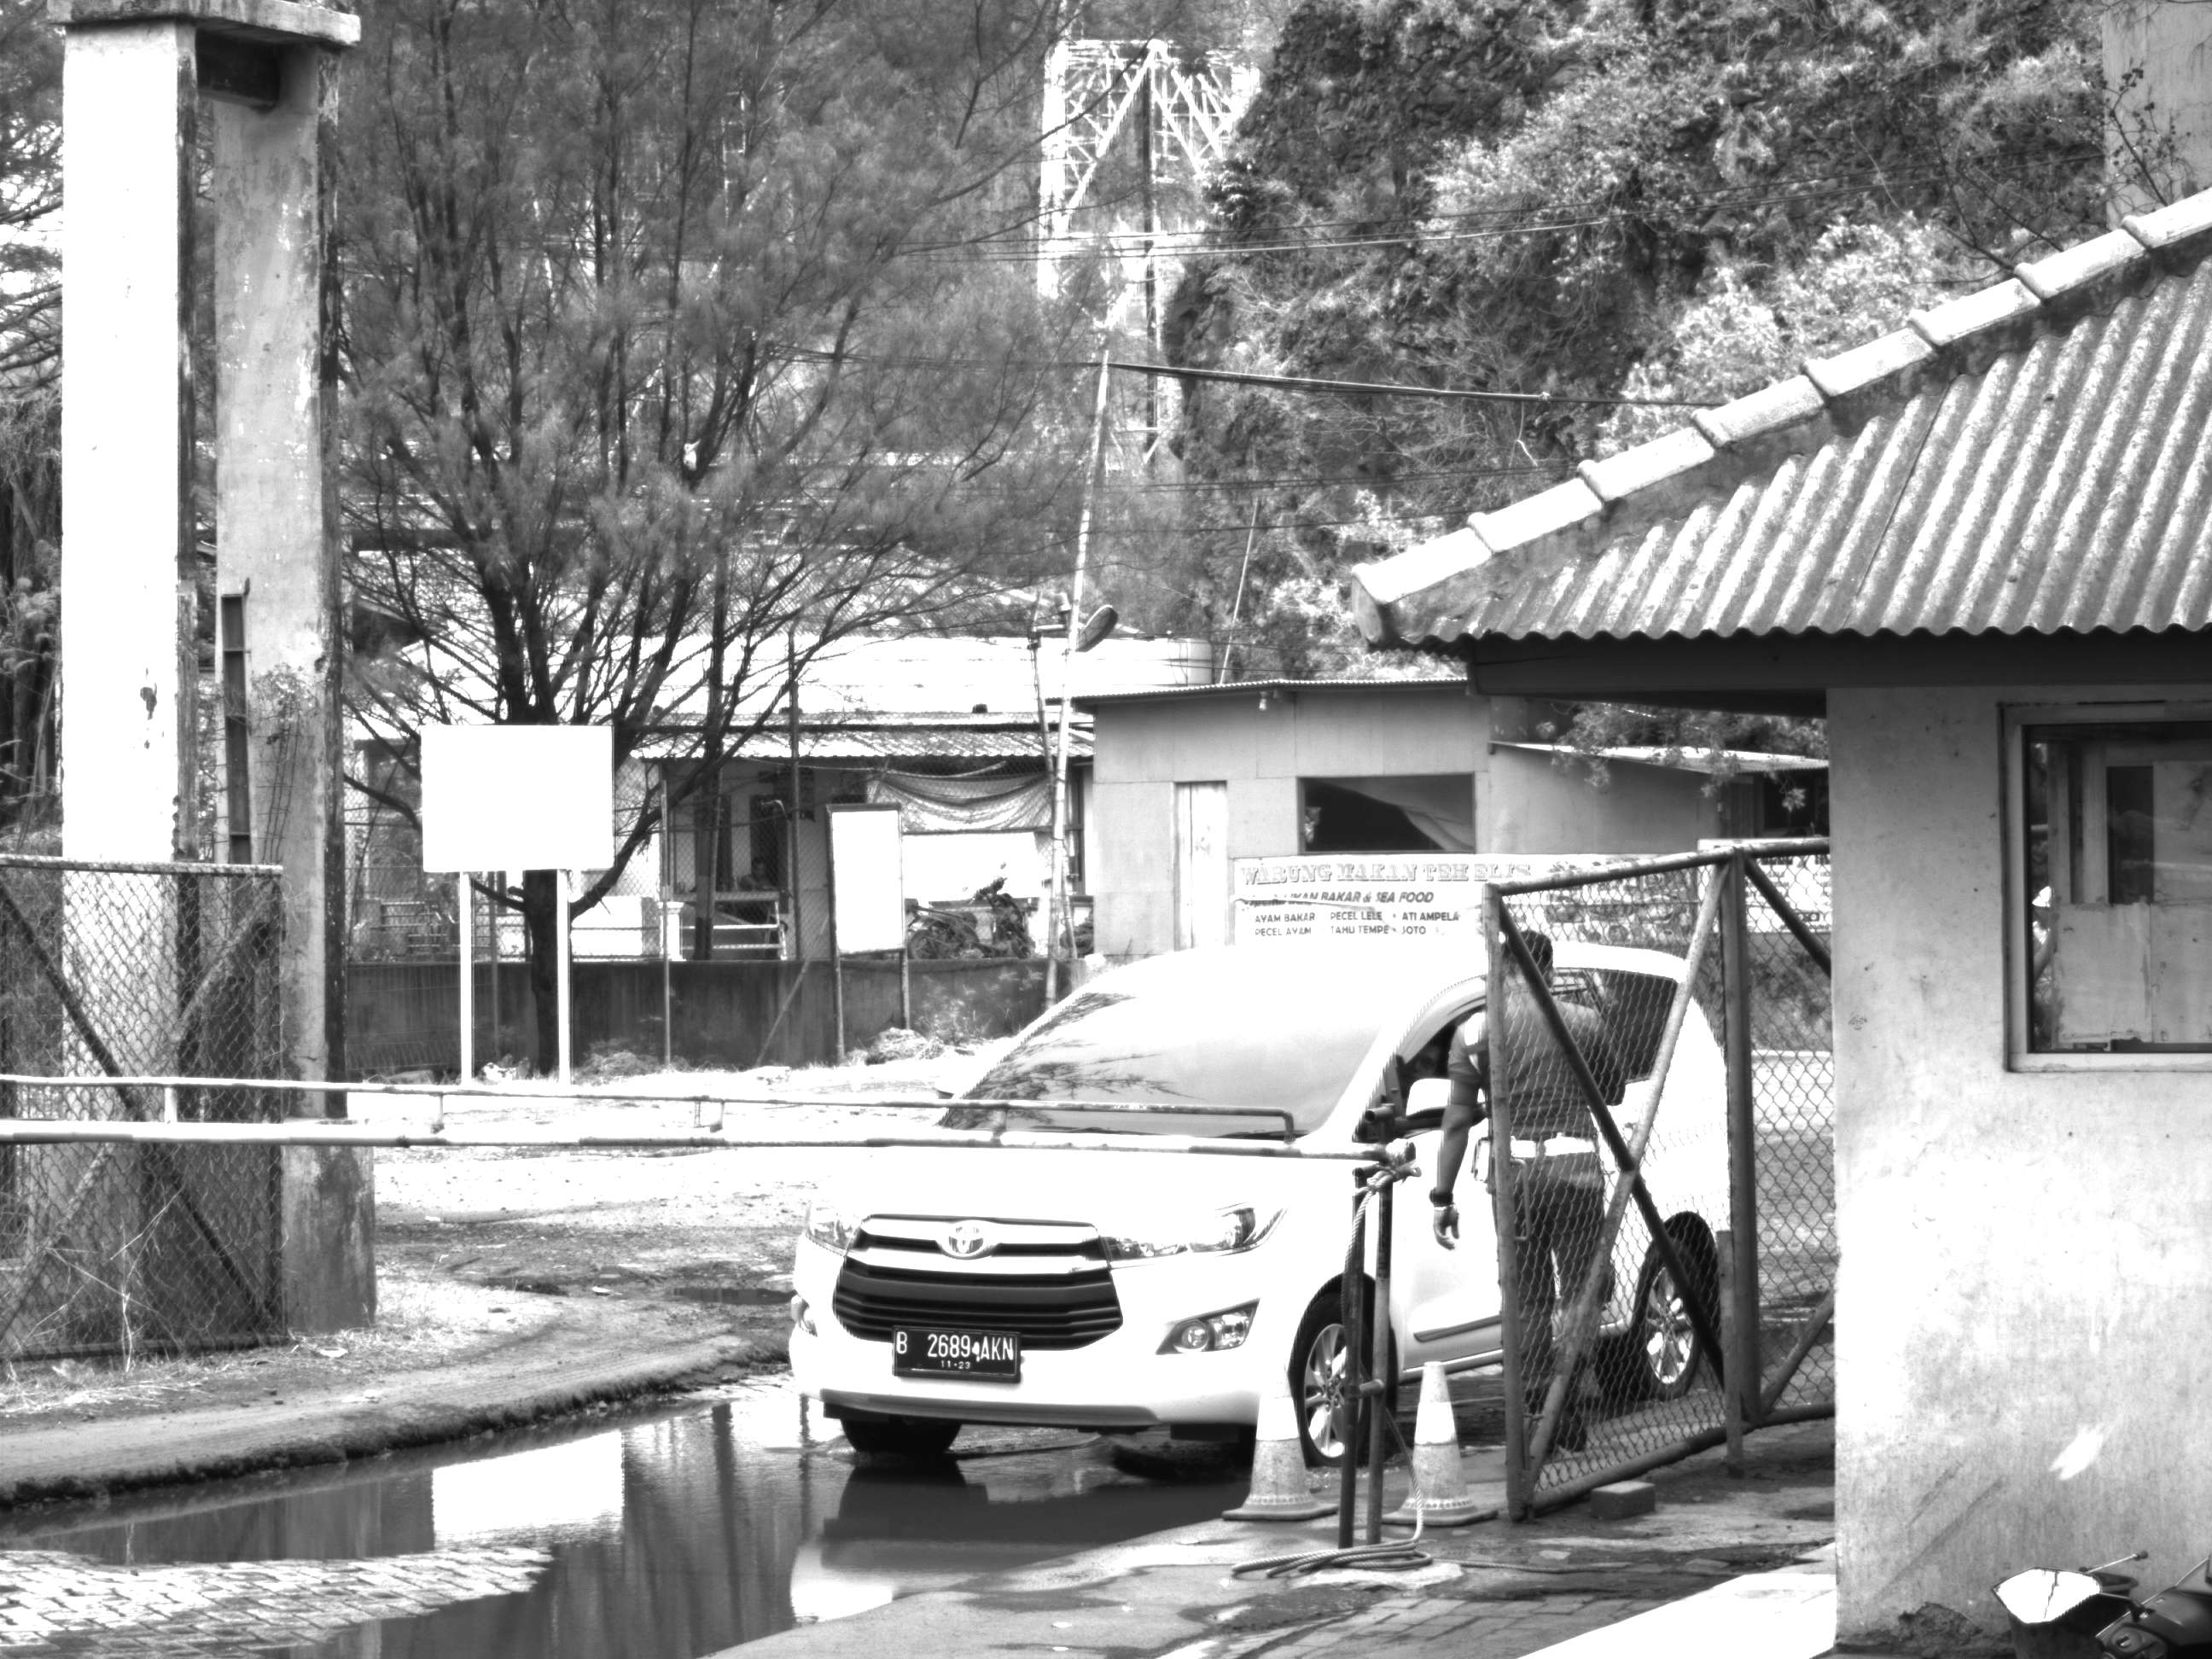day_small_front: (779, 935, 1411, 1488)
plate: (889, 1319, 1024, 1388)
